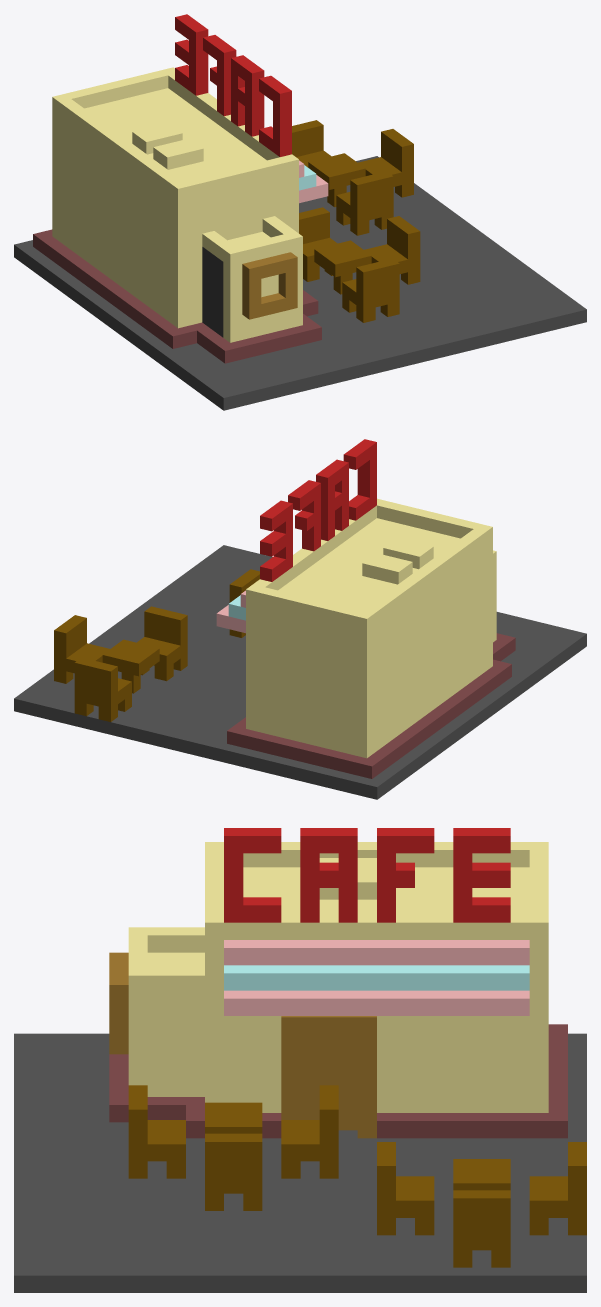
Rendered from cafe.obj.
The picture shows the model from 3 angles, top to bottom: view 1: azimuth 30°, elevation 25°; view 2: azimuth 150°, elevation 25°; view 3: azimuth 270°, elevation 25°; orthographic projection. The views are drawn at different scales.
Size of the model in its own units: 30 by 18 by 30.
